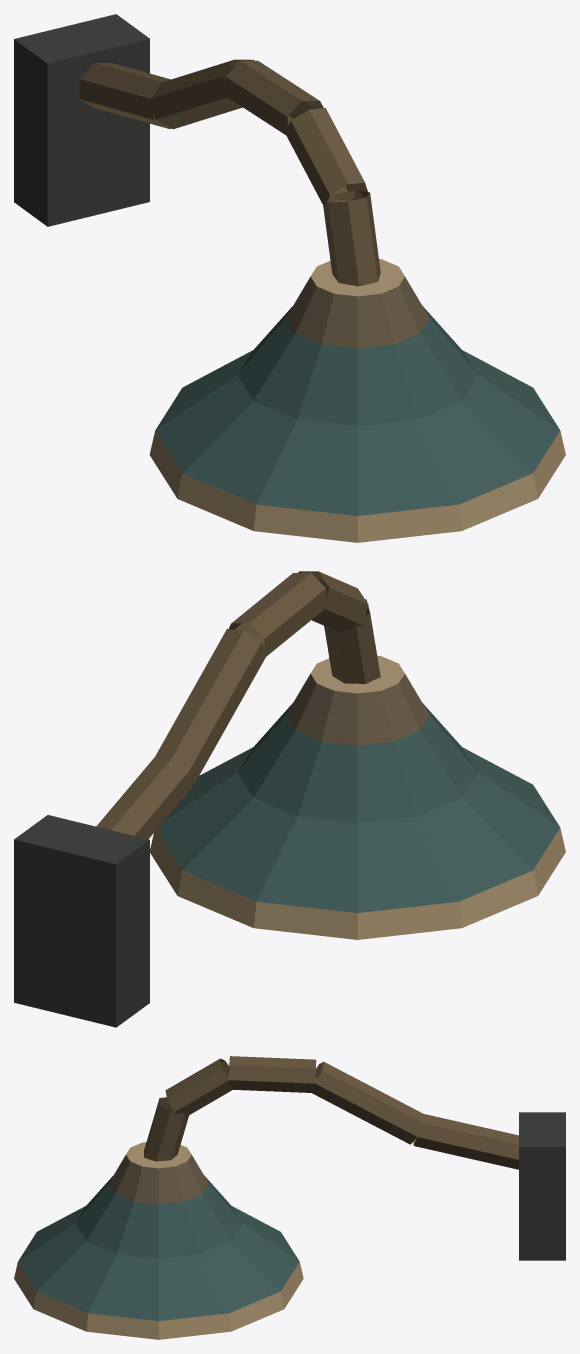
File: bench_lamp.glb
3 views of the same model, one above another, from view 1: azimuth 30°, elevation 25°; view 2: azimuth 150°, elevation 25°; view 3: azimuth 270°, elevation 25° (orthographic). The views are drawn at different scales.
Parts seen in each view (by area): view 1: bench_lamp; view 2: bench_lamp; view 3: bench_lamp.
Part boxes in pixels (left/top/right/bottom): bench_lamp: left=14, top=14, right=565, bottom=542; bench_lamp: left=14, top=571, right=565, bottom=1027; bench_lamp: left=14, top=1056, right=565, bottom=1339.
Size of the model in its own units: 0.37 by 0.3314 by 0.705.
